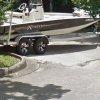Boat: (4, 1, 99, 59)
